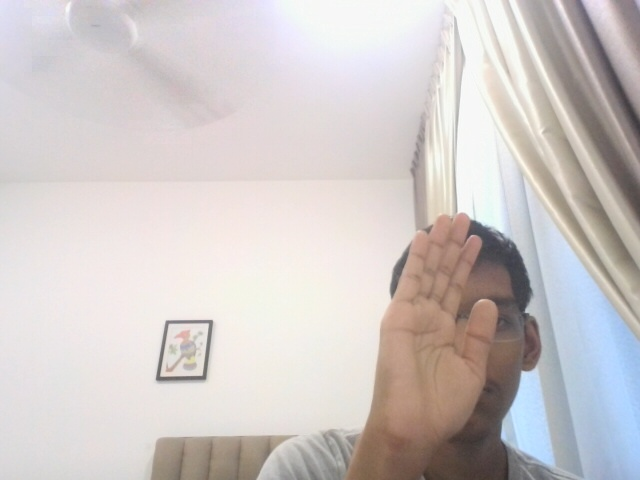hi: (373, 214, 498, 440)
